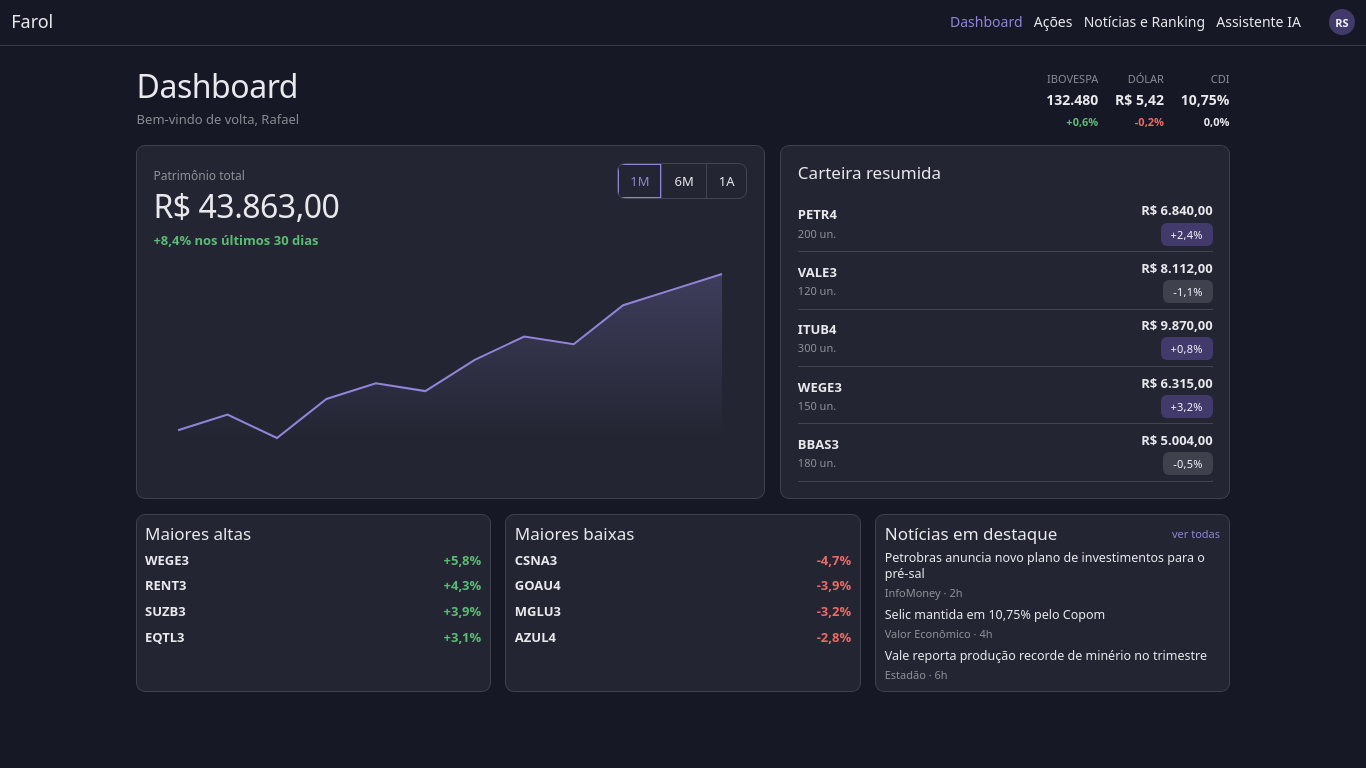
Test: AppShell › switches to the chat tab on nav click
The image size is (1366, 768).
What coordinates should you click on to do the following:
click the link "Assistente IA"
I would click on:
 (1259, 22)
Its box is [1216,12,1301,33].
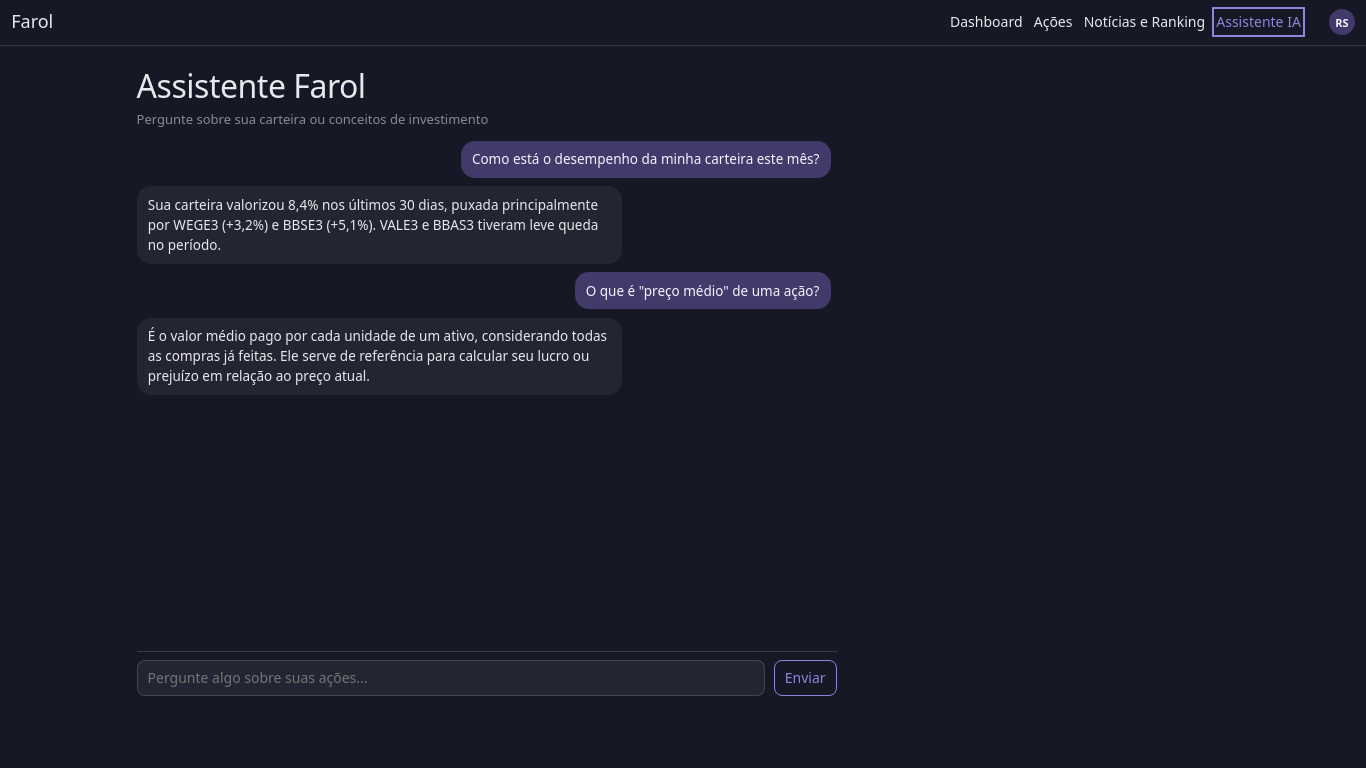
Result: the heading "Assistente Farol" is shown at [137,64,366,107]
